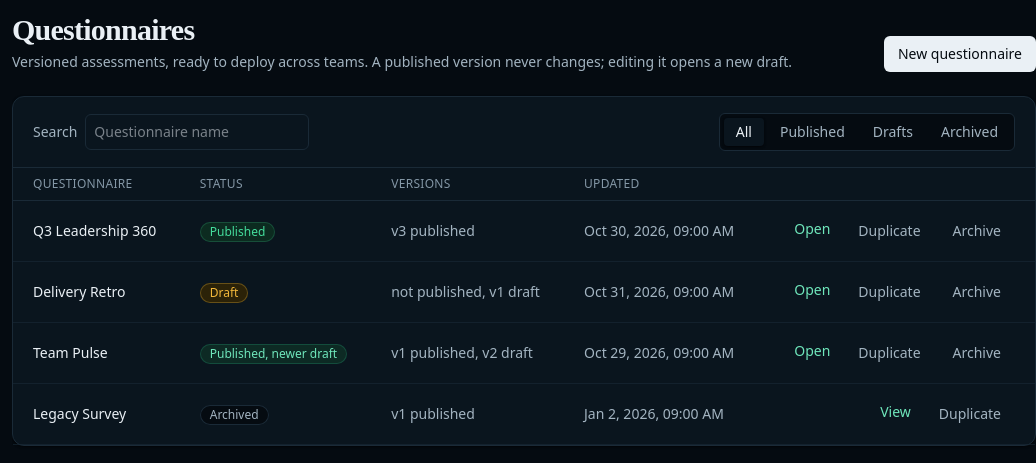
Test: QuestionnaireListPage › filters by state and by name
The image size is (1036, 463).
Expected: the table is shown, [13, 168, 1035, 445]
Click the button "Drafts": (893, 132) [861, 118, 925, 146]
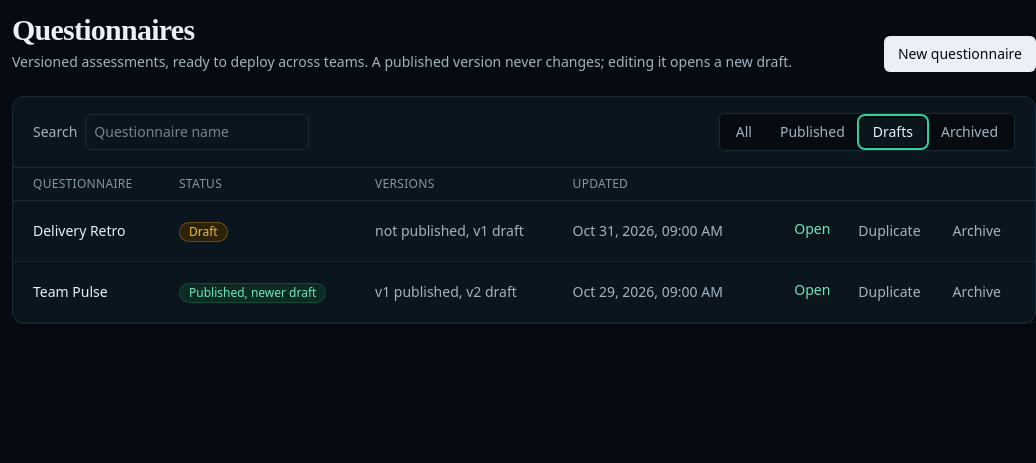
Click the button "Archived": (969, 132) [929, 118, 1010, 146]
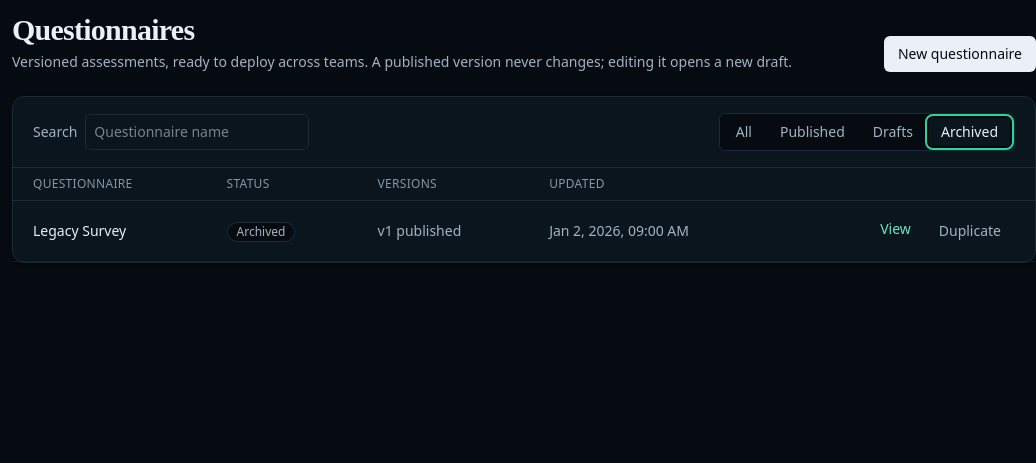
Click the button "All": (744, 132) [724, 118, 764, 146]
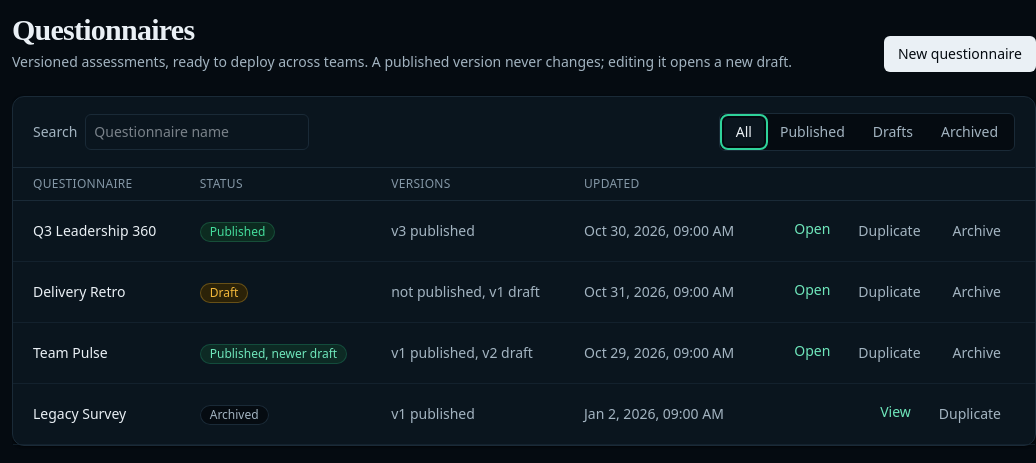
In the search field labelled "Search": (197, 132) [85, 114, 309, 150], type "pulse"
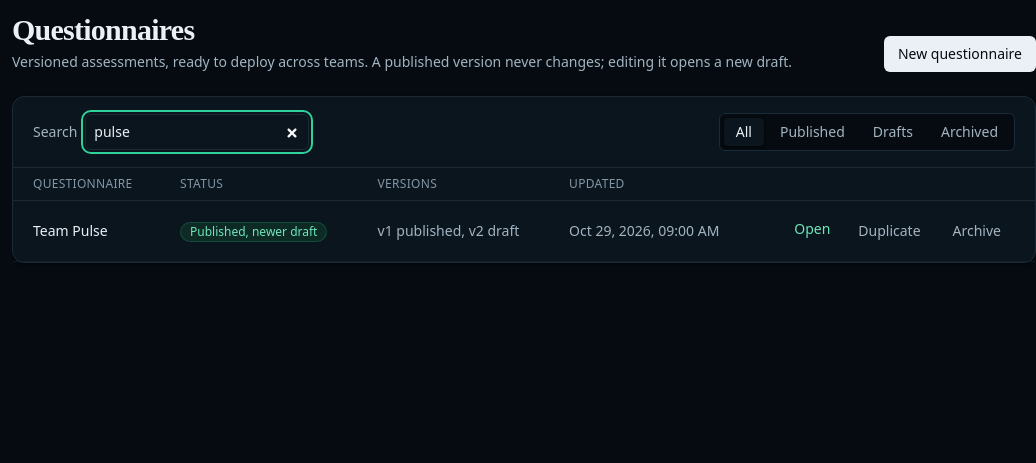
Replace the text in the search field labelled "Search" with "nothing like this": (197, 132) [85, 114, 309, 150]
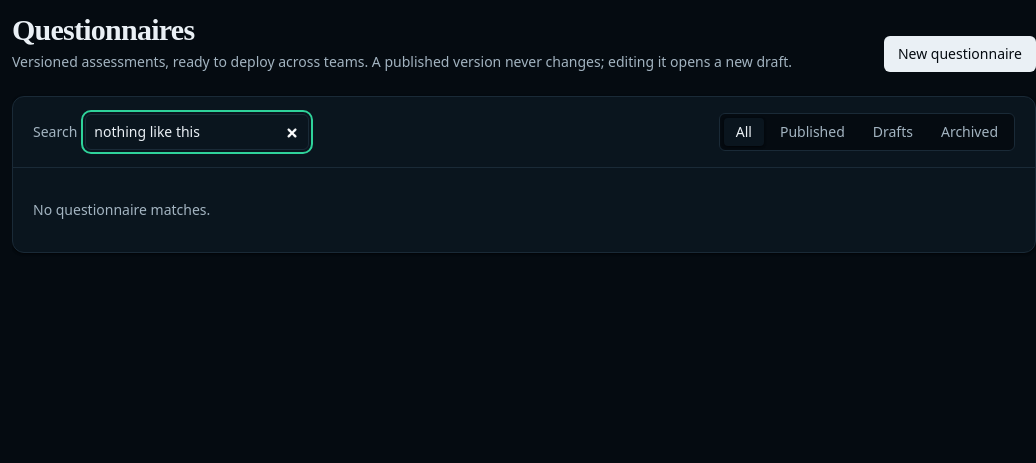
Result: the text "No questionnaire matches." is shown at [33, 200, 210, 219]
